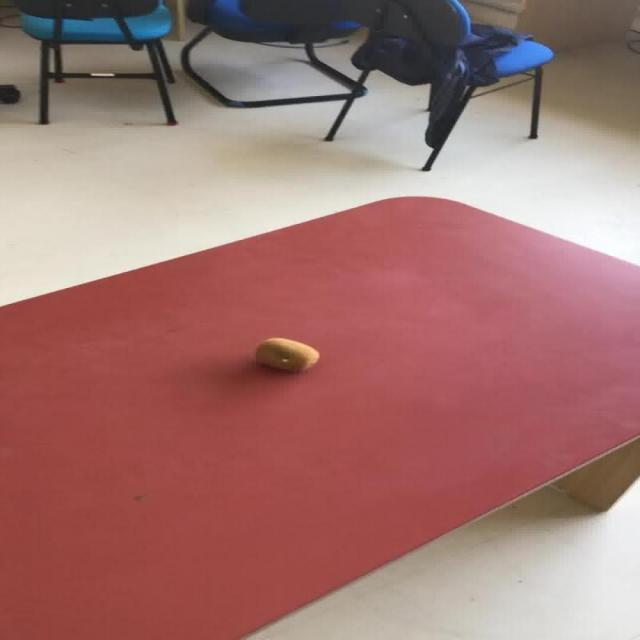Kiwi: (254, 337, 319, 371)
